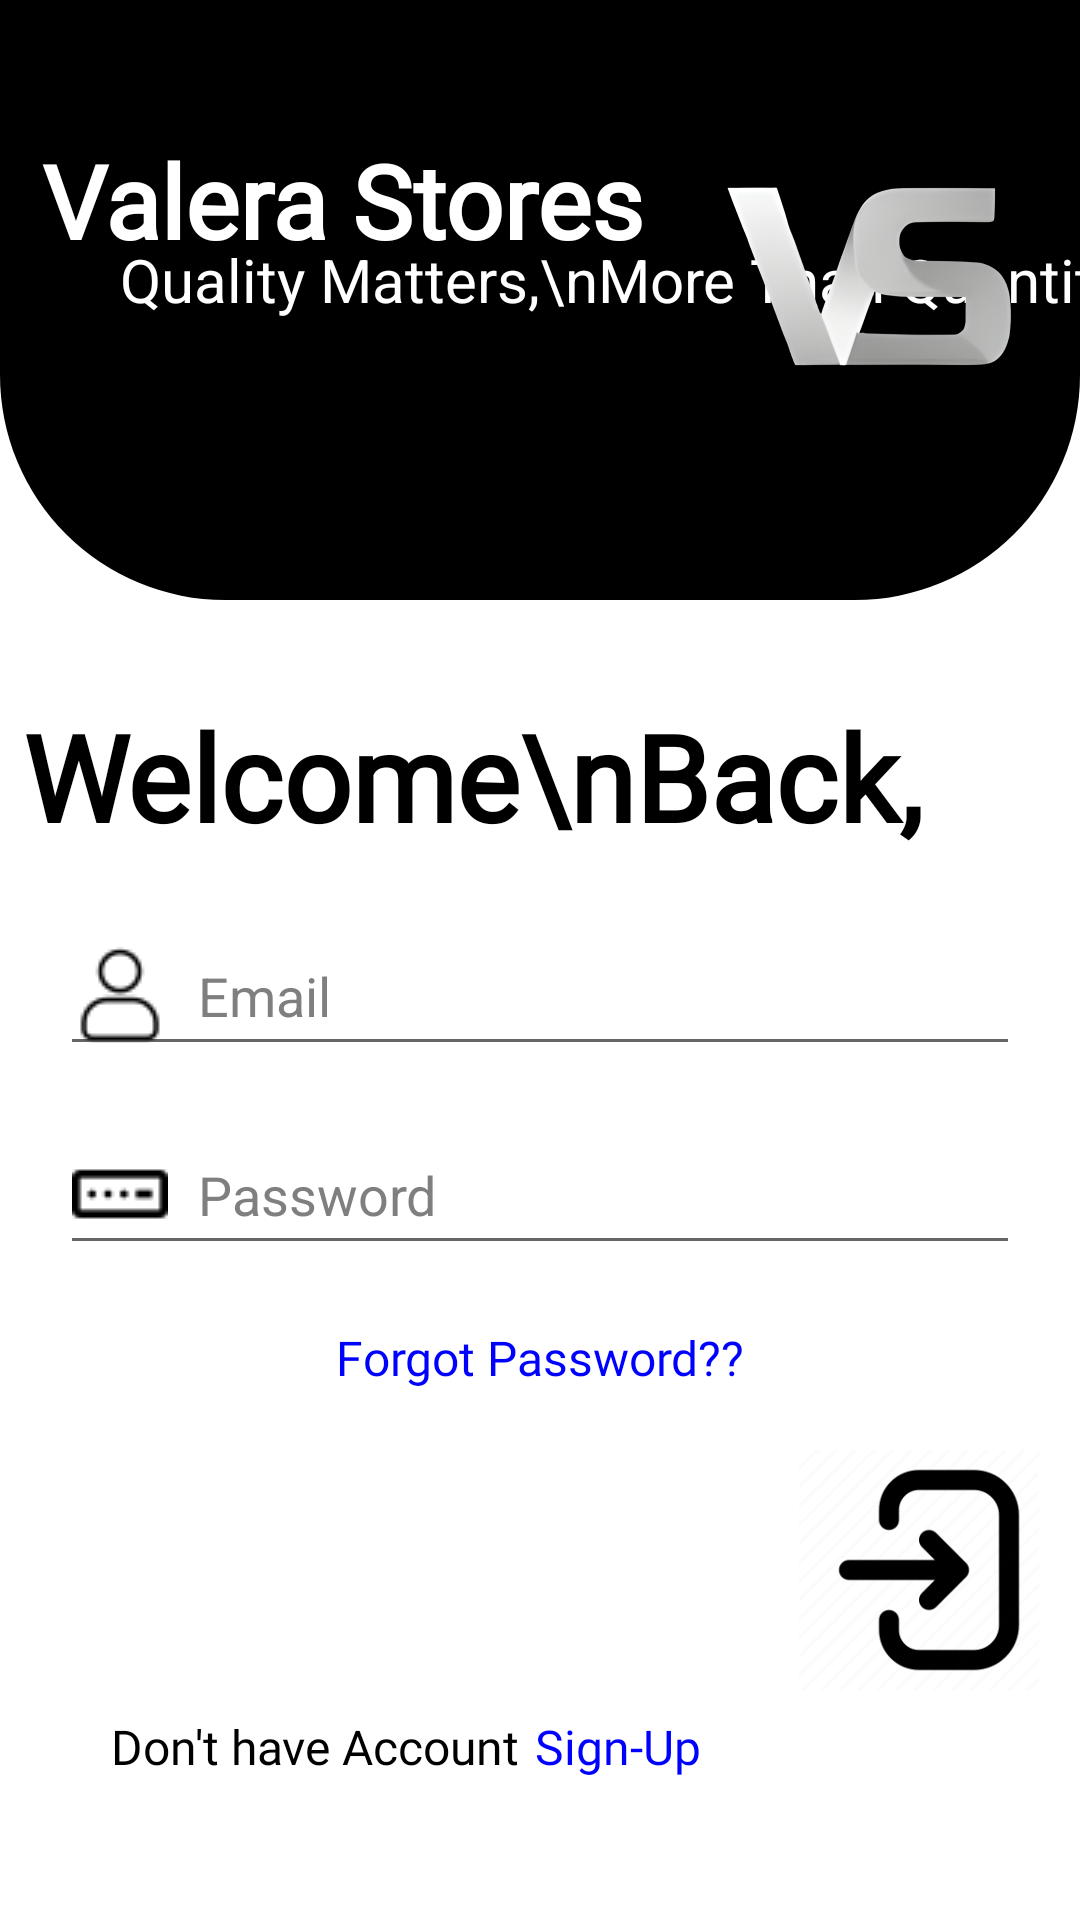

Locate icon controls on the screen. Image size 1080x1920, boxes as (x1, y1, x2, y2).
login: (838, 1469, 1020, 1671)
